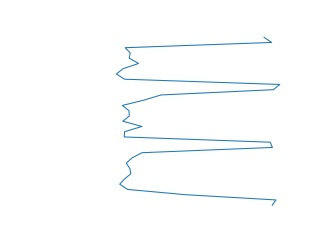majorRiverChannelBar: (113, 37, 286, 205)
